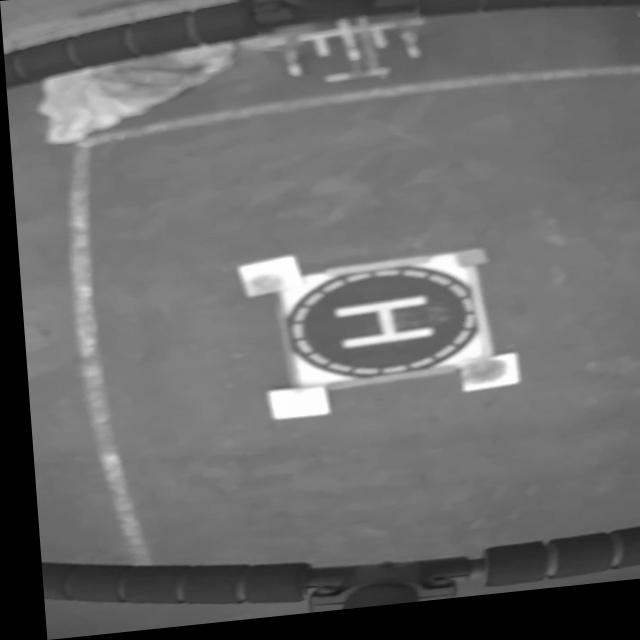Helipad: (327, 302, 430, 356)
